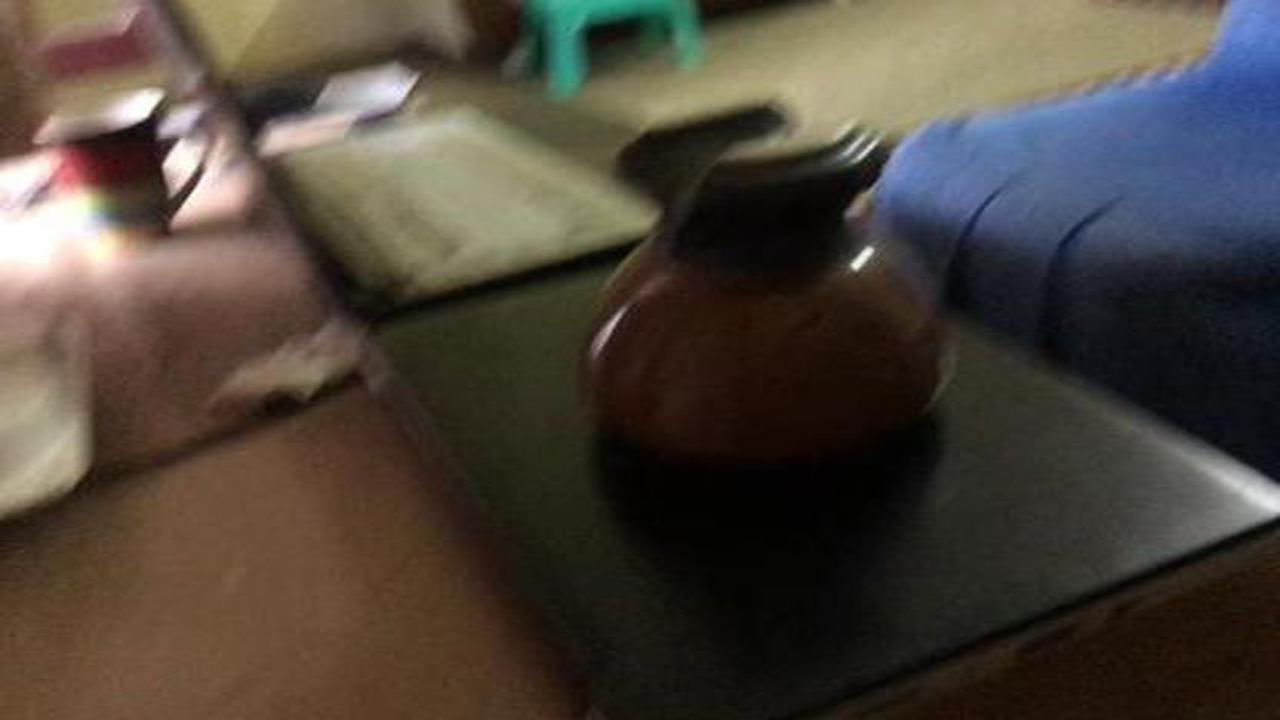insulator_pin: (554, 89, 982, 492)
